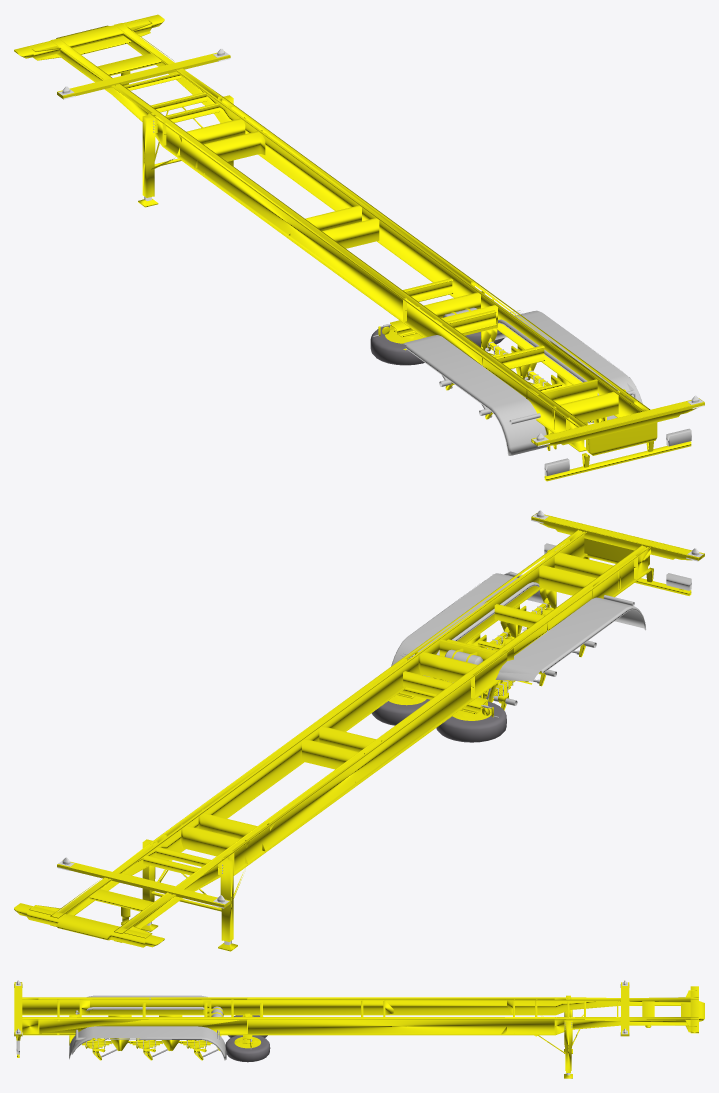
The model's file is chassis.fbx.
The picture shows the model from 3 angles, top to bottom: view 1: azimuth 30°, elevation 25°; view 2: azimuth 150°, elevation 25°; view 3: azimuth 270°, elevation 25°; orthographic projection. The views are drawn at different scales.
Visible parts, largest first — view 1: Cube; view 2: Cube; view 3: Cube.
Part boxes in pixels (x1=…): Cube: x1=14, y1=14, x2=704, y2=481; Cube: x1=14, y1=513, x2=704, y2=951; Cube: x1=14, y1=982, x2=704, y2=1078.
Bounding box in the file's own units: 245 × 130 × 1365.
